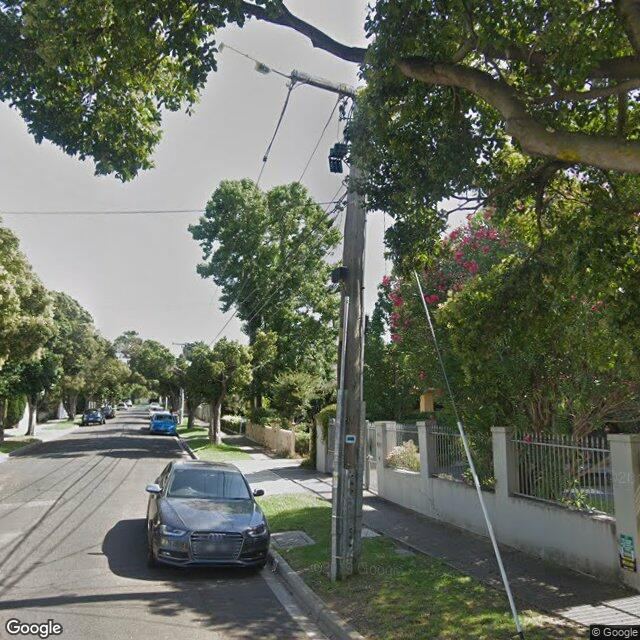crossarm: (290, 69, 360, 98)
streetlight: (217, 42, 291, 77)
timber-pole: (332, 86, 370, 582)
